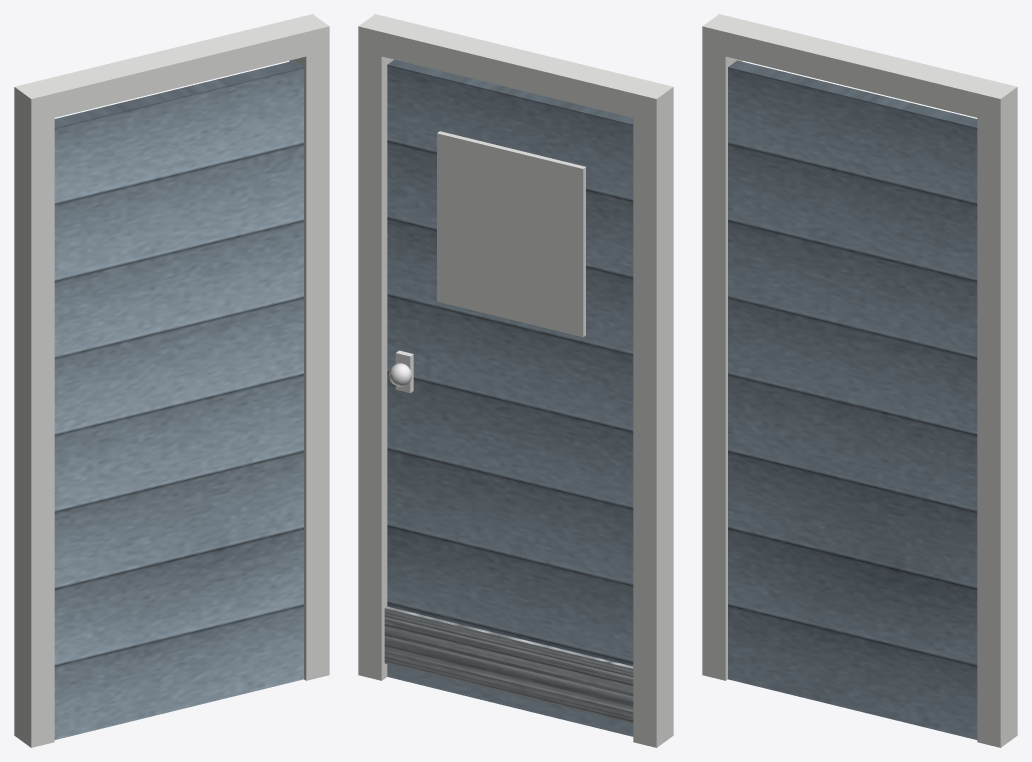
Rendered from WK_DOOR_TrailerDoor.glb.
The picture shows the model from 3 angles, left to right: view 1: azimuth 30°, elevation 25°; view 2: azimuth 150°, elevation 25°; view 3: azimuth 330°, elevation 25°; orthographic projection.
Parts seen in each view (by area): view 1: WK_DOOR_TrailerDoor_P04, WK_DOOR_TrailerDoor_P01, WK_DOOR_TrailerDoor_P02, WK_DOOR_TrailerDoor_P03; view 2: WK_DOOR_TrailerDoor_P04, WK_DOOR_TrailerDoor_P01, WK_DOOR_TrailerDoor_P05, WK_DOOR_TrailerDoor_P02, WK_DOOR_TrailerDoor_P08, WK_DOOR_TrailerDoor_P03; view 3: WK_DOOR_TrailerDoor_P04, WK_DOOR_TrailerDoor_P02, WK_DOOR_TrailerDoor_P01, WK_DOOR_TrailerDoor_P03.
Part boxes in pixels (x1=…): WK_DOOR_TrailerDoor_P04: x1=54, y1=60, x2=303, y2=739; WK_DOOR_TrailerDoor_P01: x1=14, y1=105, x2=54, y2=747; WK_DOOR_TrailerDoor_P02: x1=289, y1=45, x2=329, y2=680; WK_DOOR_TrailerDoor_P03: x1=14, y1=14, x2=329, y2=123; WK_DOOR_TrailerDoor_P04: x1=387, y1=59, x2=633, y2=736; WK_DOOR_TrailerDoor_P01: x1=633, y1=105, x2=673, y2=747; WK_DOOR_TrailerDoor_P05: x1=437, y1=131, x2=585, y2=337; WK_DOOR_TrailerDoor_P02: x1=358, y1=44, x2=393, y2=680; WK_DOOR_TrailerDoor_P08: x1=384, y1=606, x2=633, y2=723; WK_DOOR_TrailerDoor_P03: x1=358, y1=14, x2=673, y2=121; WK_DOOR_TrailerDoor_P04: x1=728, y1=60, x2=977, y2=739; WK_DOOR_TrailerDoor_P02: x1=977, y1=105, x2=1017, y2=747; WK_DOOR_TrailerDoor_P01: x1=702, y1=45, x2=742, y2=680; WK_DOOR_TrailerDoor_P03: x1=702, y1=14, x2=1017, y2=122.
Size of the model in its own units: 1.02 by 2.12 by 0.145.
6 materials, 3 textured.
